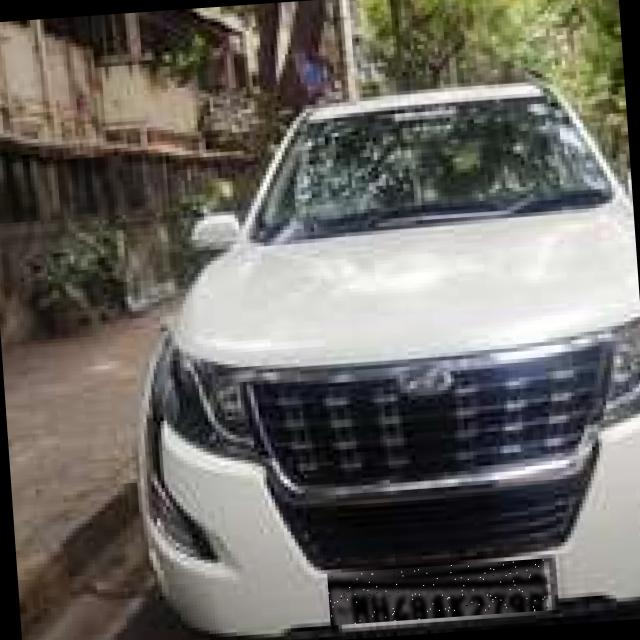Plate: (328, 559, 549, 626)
